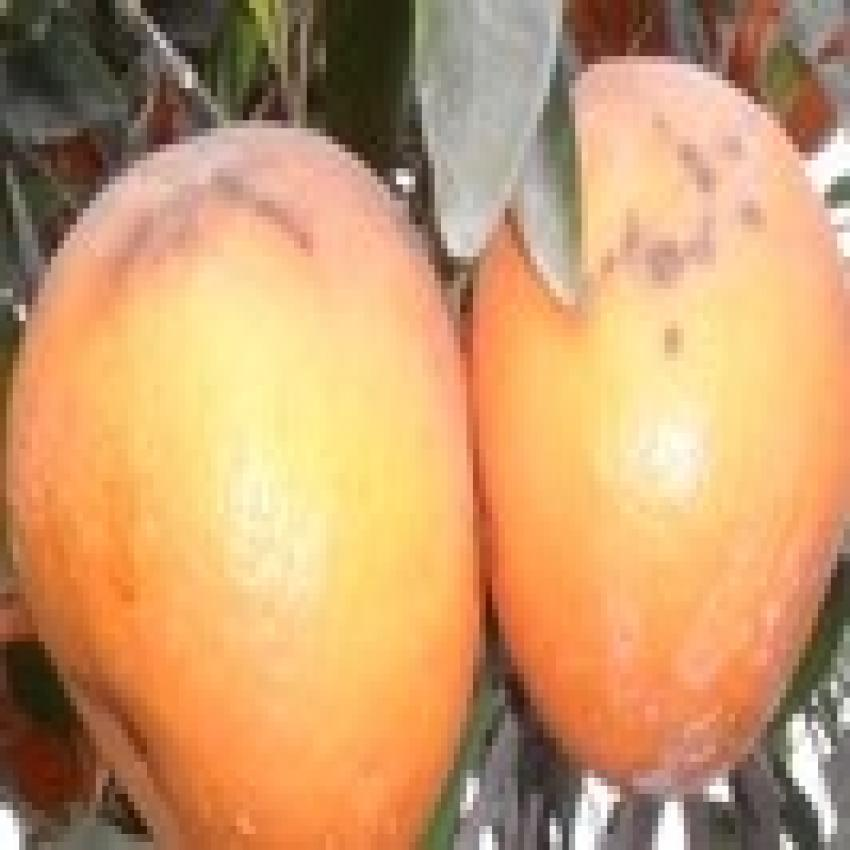Mal estado: (0, 100, 486, 842), (462, 43, 844, 792)
